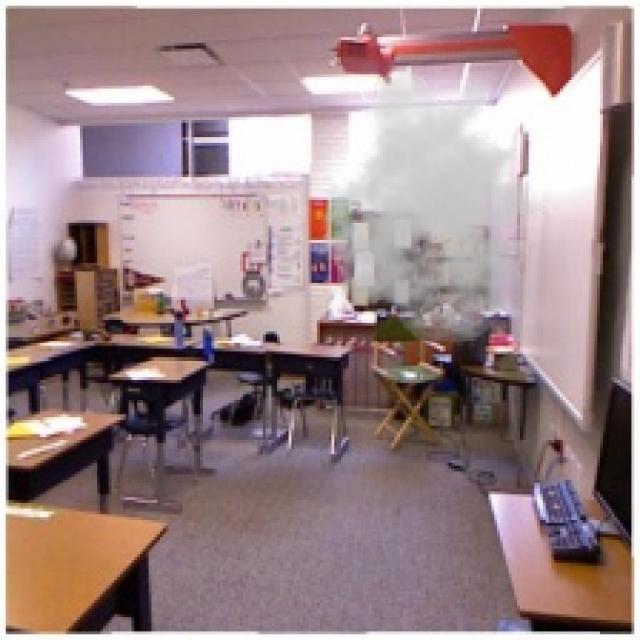Smoke: (308, 66, 558, 346)
